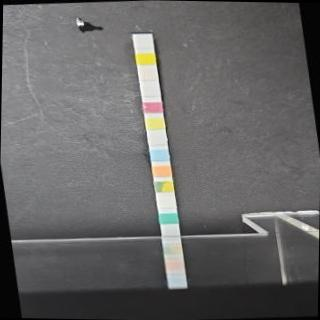mark: (149, 148, 169, 160), (138, 68, 158, 80), (136, 52, 156, 64), (154, 180, 173, 192), (152, 164, 171, 176), (143, 101, 162, 113), (134, 37, 153, 49), (140, 85, 160, 96), (159, 212, 177, 223), (157, 196, 175, 207), (148, 134, 166, 145), (146, 118, 163, 128)
